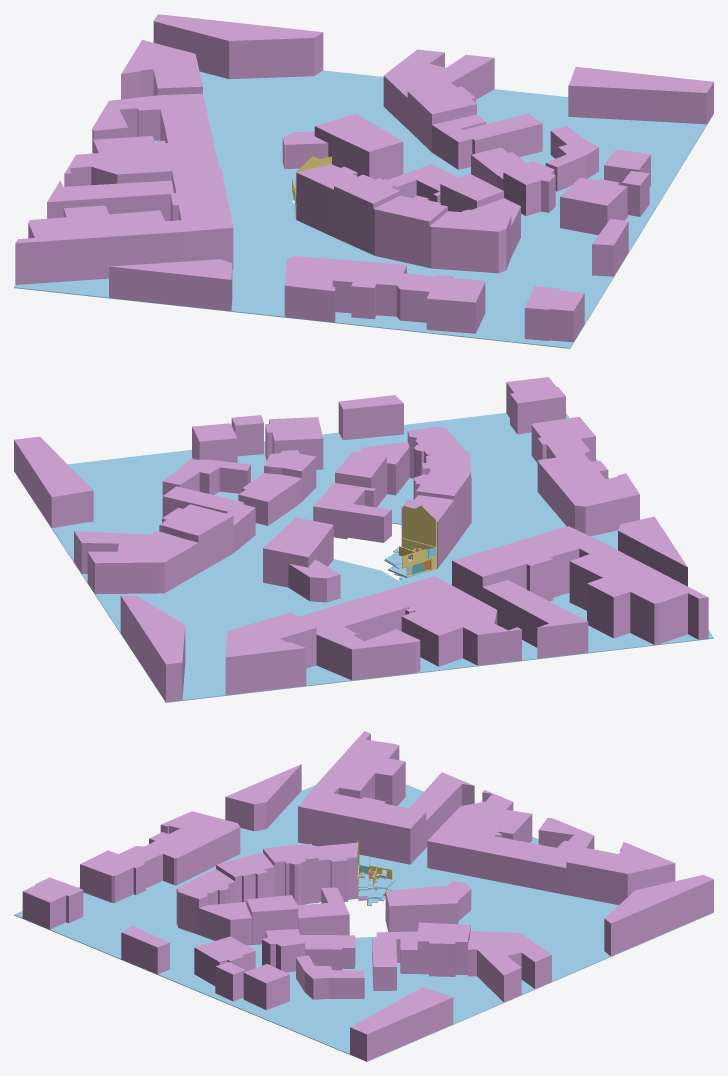
The model's file is c3587df5-c8ab-43ae-b764-adee6b2a05c5.glb.
The picture shows the model from 3 angles, top to bottom: view 1: azimuth 30°, elevation 25°; view 2: azimuth 150°, elevation 25°; view 3: azimuth 270°, elevation 25°; orthographic projection. The views are drawn at different scales.
Parts seen in each view (by area): view 1: 21459, 21464; view 2: 21459, 21464, 5076; view 3: 21459, 21464.
Part boxes in pixels (x1,y1,x2,y2): 21459: (15,14,713,342); 21464: (14,70,713,348); 21459: (14,377,708,701); 21464: (14,413,713,702); 5076: (399,505,436,577); 21459: (22,731,713,1060); 21464: (14,784,713,1061).
Bounding box in the file's own units: 212 × 19.8 × 212.
